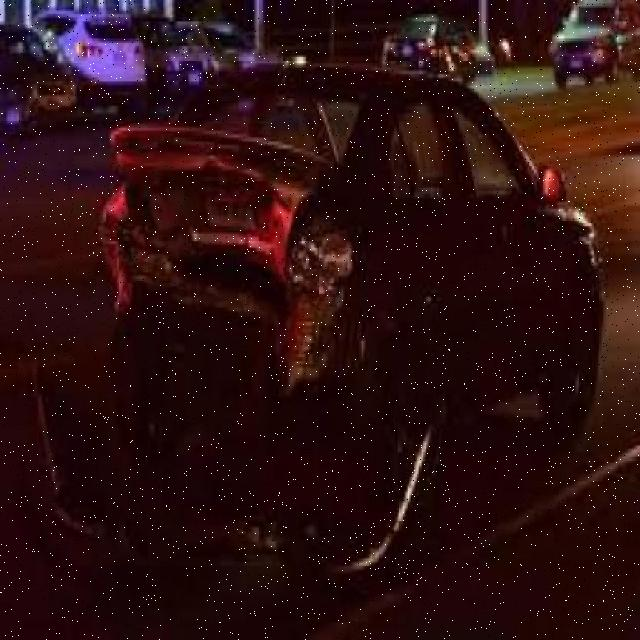damage: (114, 121, 357, 416)
